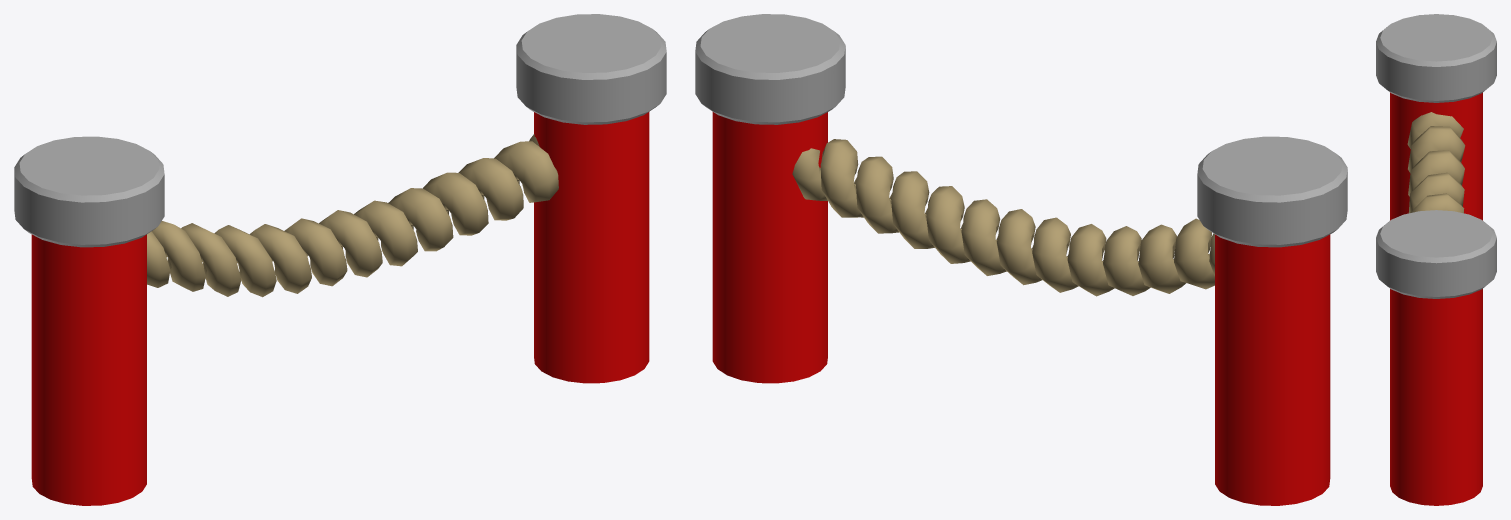
Rendered from RopeFenceWhole.fbx.
3 views of the same model, side by side, from view 1: azimuth 30°, elevation 25°; view 2: azimuth 150°, elevation 25°; view 3: azimuth 270°, elevation 25° (orthographic). The views are drawn at different scales.
Visible parts, largest first — view 1: Pole1, Pole2, Rope; view 2: Pole1, Pole2, Rope; view 3: Pole2, Pole1, Rope.
Boxes of the visible parts, x1=… form: Pole1: x1=14, y1=136, x2=164, y2=505; Pole2: x1=516, y1=14, x2=666, y2=383; Rope: x1=147, y1=134, x2=558, y2=297; Pole1: x1=1197, y1=136, x2=1347, y2=505; Pole2: x1=695, y1=14, x2=845, y2=383; Rope: x1=792, y1=139, x2=1214, y2=296; Pole2: x1=1376, y1=210, x2=1496, y2=505; Pole1: x1=1376, y1=14, x2=1496, y2=220; Rope: x1=1407, y1=112, x2=1465, y2=213.
Size of the model in its own units: 6.3 by 3 by 1.3.
